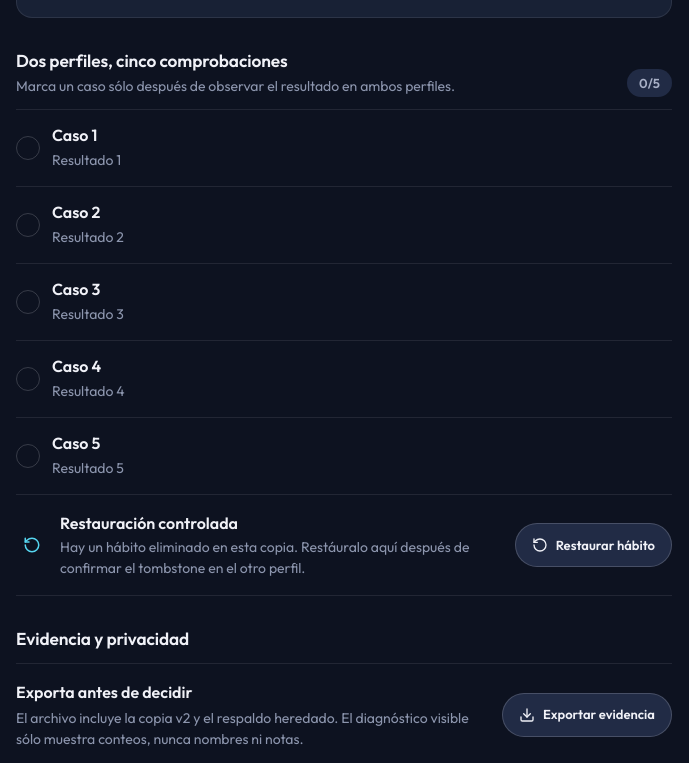
Scenario: SyncV2PilotPage › offers a bounded restore action only when a local tombstone exists
(page scrolled)
Click the button with class "sv-restore__button" at (593, 545), box [515,523,672,567]
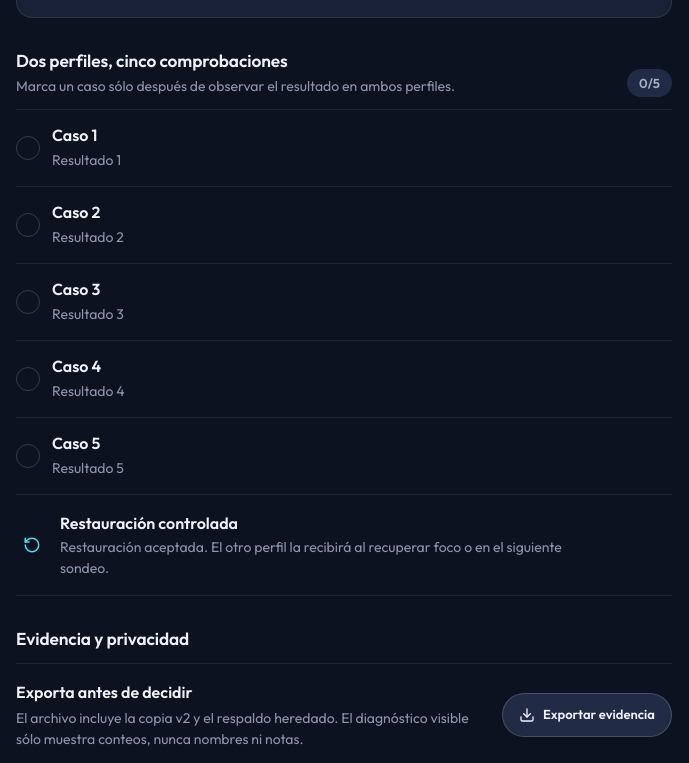
Expected: the text "Restauración aceptada" is shown, [60,538,562,577]
